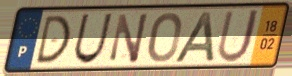A: (172, 10, 217, 64)
D: (34, 14, 73, 66)
N: (108, 11, 151, 65)
O: (146, 11, 183, 65)
U: (214, 8, 262, 65), (71, 11, 115, 66)
